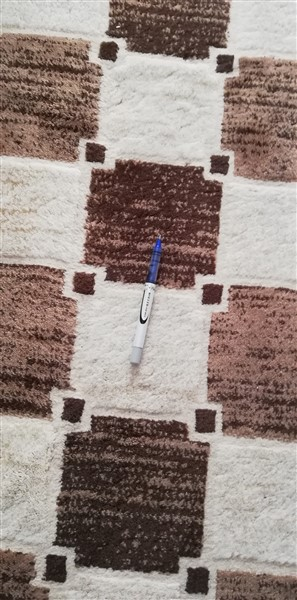pilot kalem: (127, 234, 163, 368)
